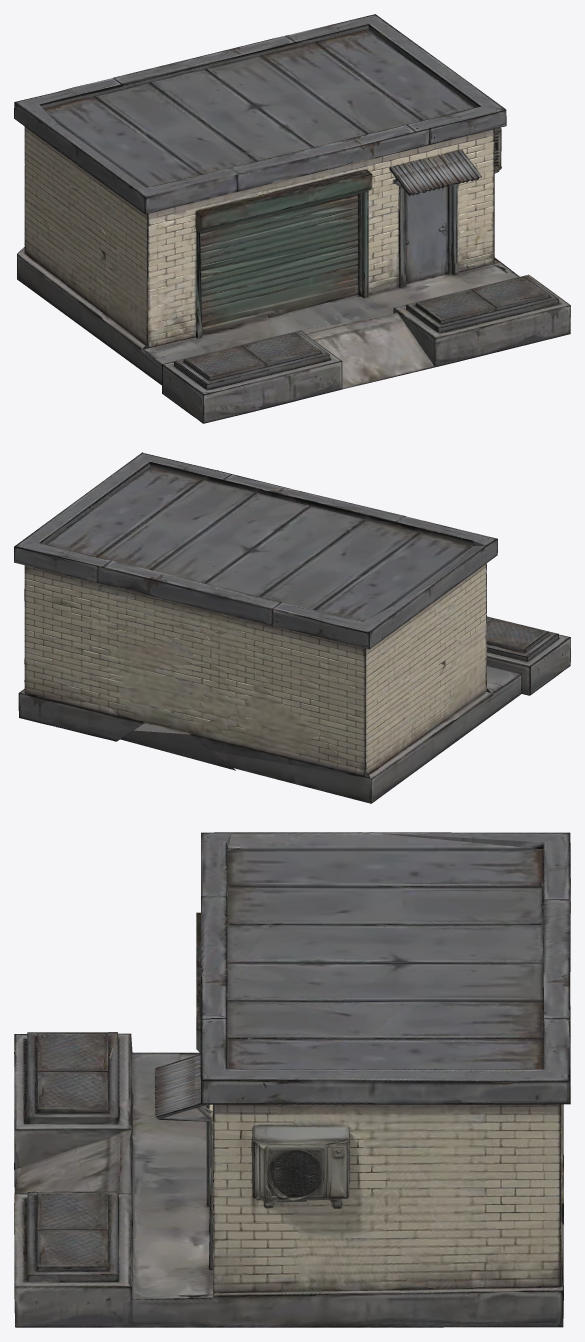
Rendered from switchroom.glb.
3 views of the same model, one above another, from view 1: azimuth 30°, elevation 25°; view 2: azimuth 150°, elevation 25°; view 3: azimuth 270°, elevation 25° (orthographic). The views are drawn at different scales.
Bounding box in the file's own units: 1.9 × 0.8314 × 1.69.
1 material, 1 textured.
